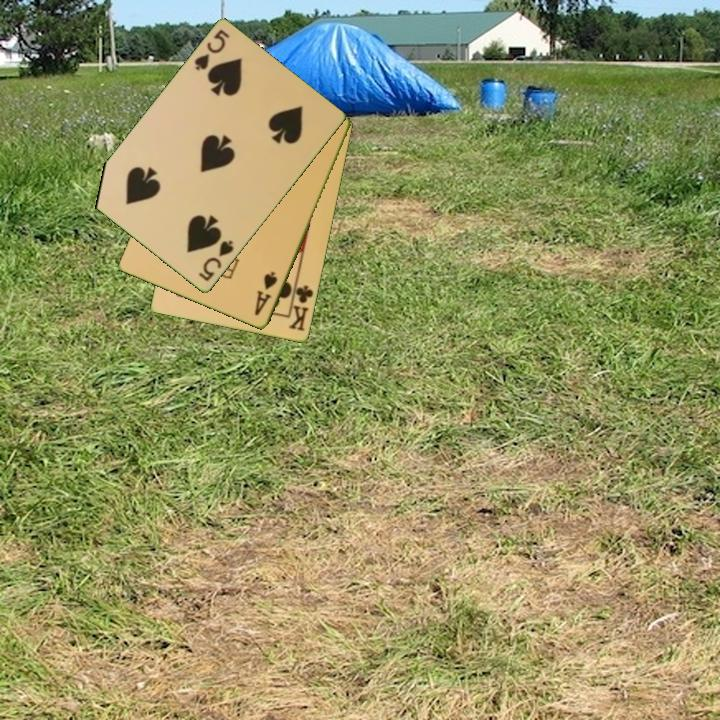5s: (195, 237, 237, 285), (191, 26, 233, 74)
As: (251, 268, 281, 319)
Kc: (286, 278, 316, 334)
